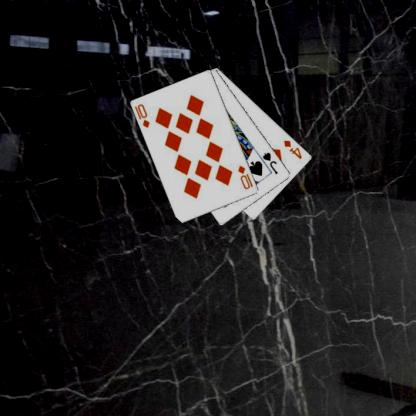10D: (132, 101, 151, 129), (236, 163, 254, 190)
4D: (282, 138, 303, 160)
JS: (260, 150, 279, 176)
